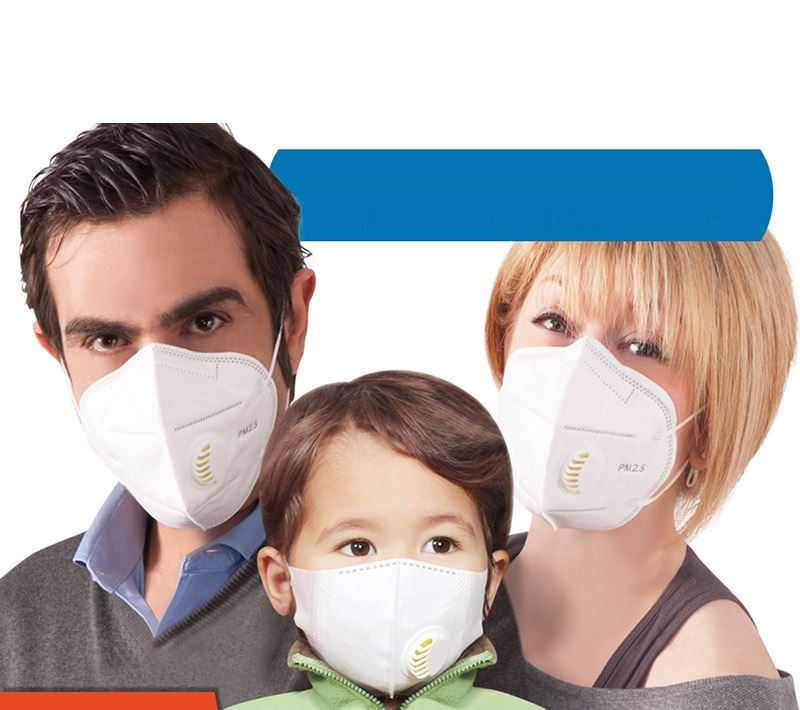face_mask: (54, 211, 277, 506), (498, 242, 703, 510), (289, 443, 488, 683)
